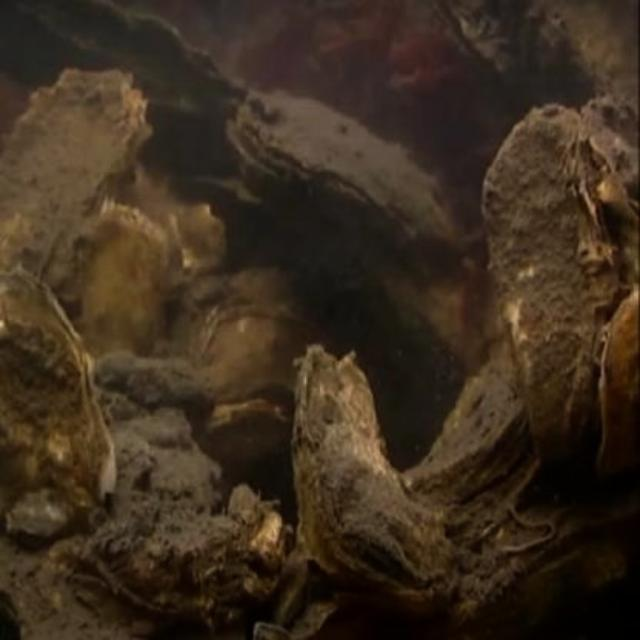Oyster-Closed: (486, 106, 613, 465), (292, 349, 455, 596), (230, 92, 457, 263), (0, 65, 151, 285), (0, 269, 115, 521), (406, 353, 527, 509), (81, 199, 168, 358), (195, 305, 319, 401), (599, 287, 640, 480), (201, 399, 298, 468)
